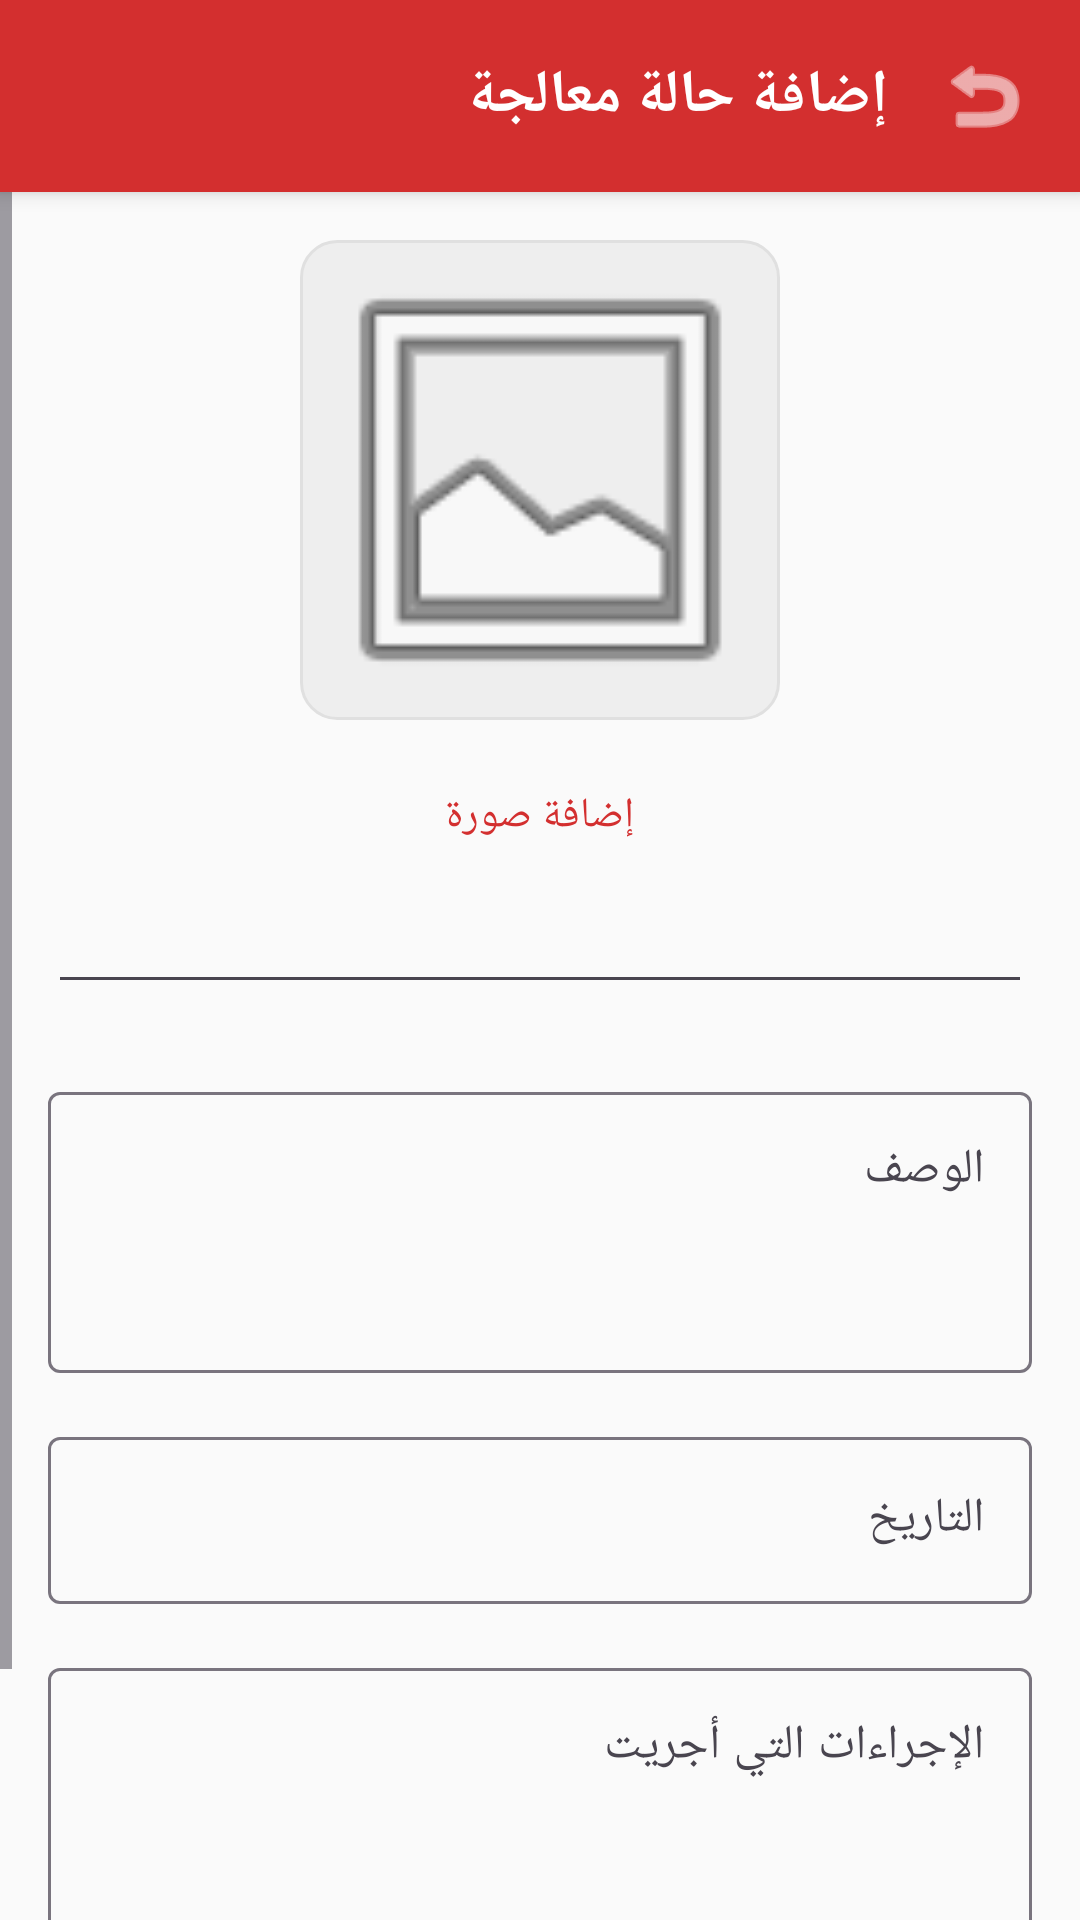

Screen size 1080*1920. Icon name, then its center in pixels as (x,y):
revert: (985,96)
